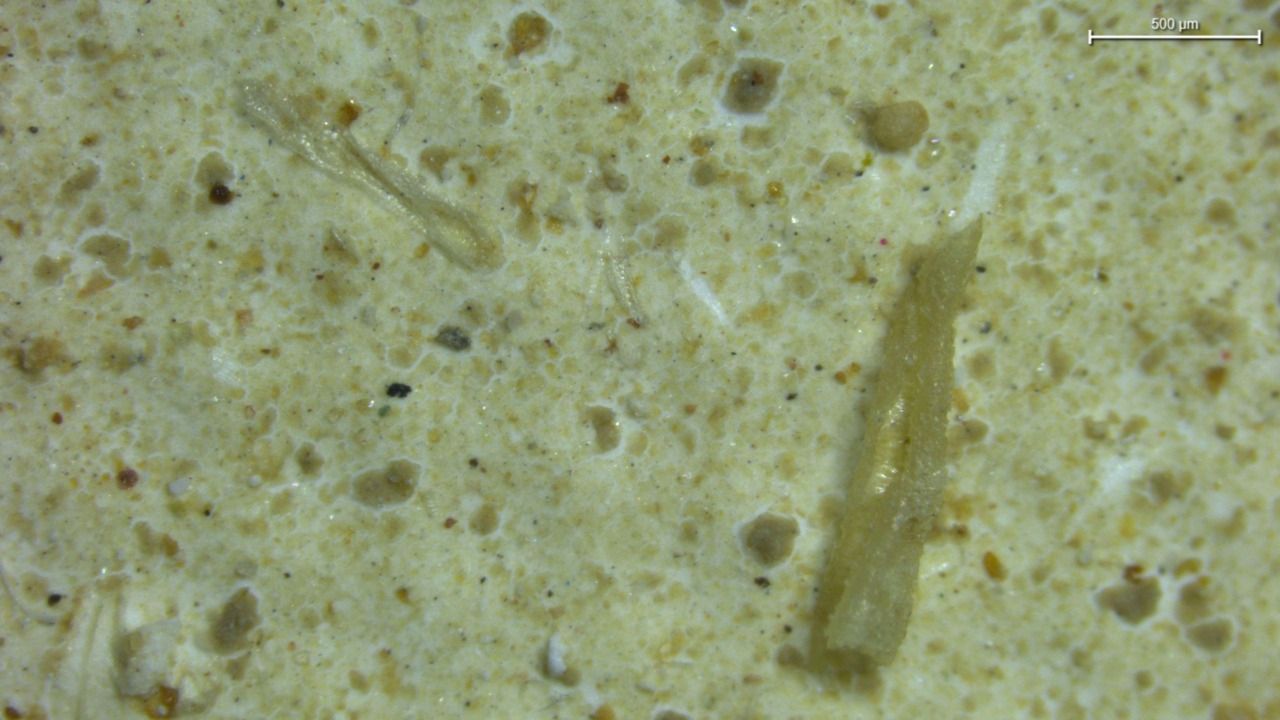microplastic_fragment: (815, 216, 982, 664), (237, 81, 501, 270), (869, 100, 928, 151), (546, 633, 567, 678)
